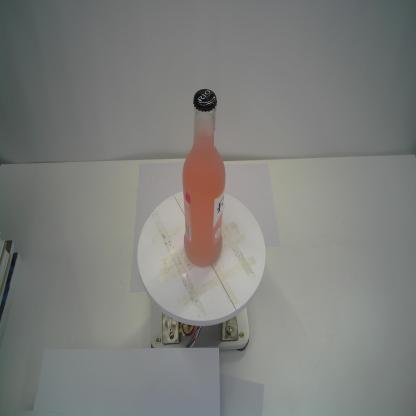Alcohol: (181, 88, 226, 268)
